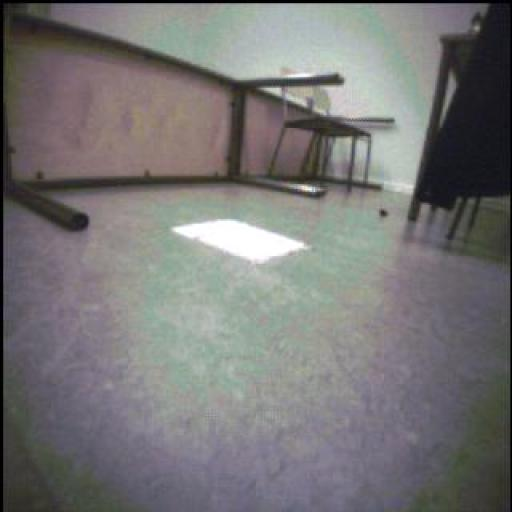Pad: (174, 227, 303, 265)
